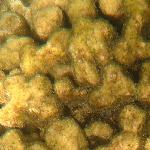dead: (6, 2, 147, 147)
